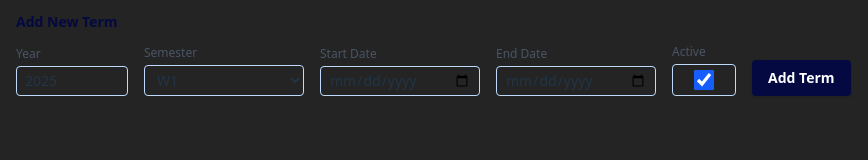
Scenario: AddTermForm › shows loading state while submitting
This screenshot has width=868, height=160.
Type "2025-01-08" into the date field labelled "Start Date" at (400, 81), box [320, 66, 480, 96]
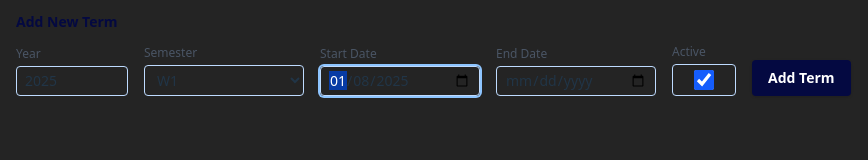
Type "2025-04-12" into the date field labelled "End Date" at (576, 81), box [496, 66, 656, 96]
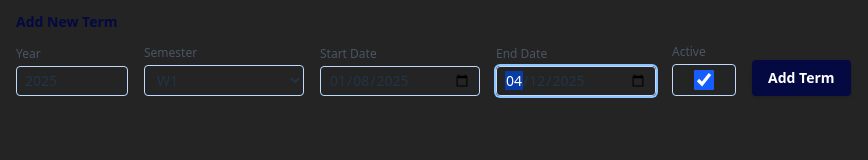
Click the button "Add Term" at (801, 78), box [752, 60, 850, 96]
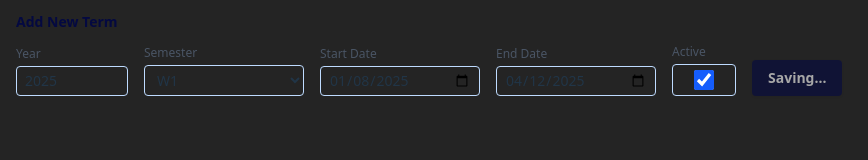
Check: the button "Saving..." is disabled, box [752, 60, 842, 96]
